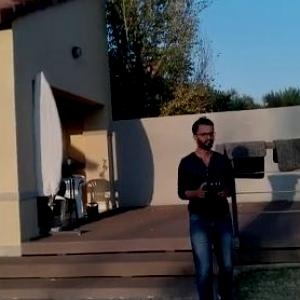follow: (175, 109, 245, 299)
